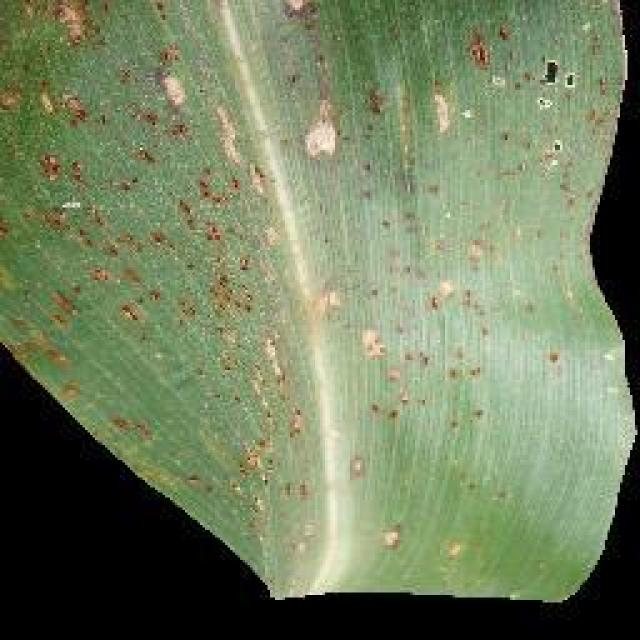Corn Common Rust: (15, 4, 470, 528)
